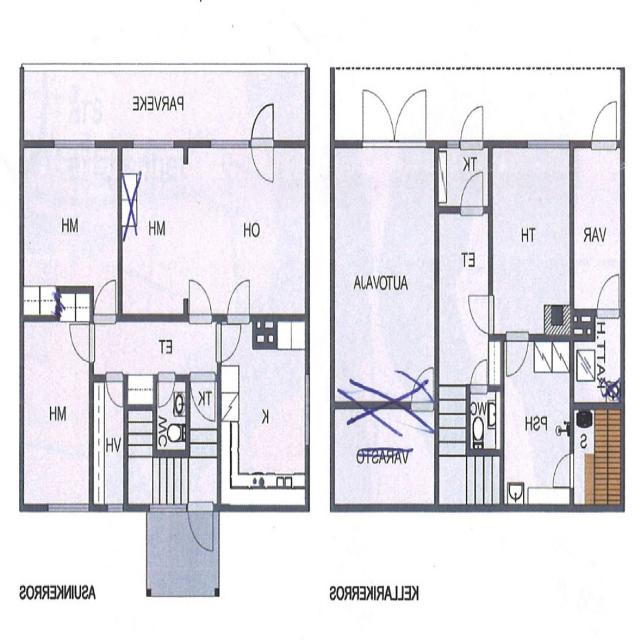door: (362, 84, 394, 148), (394, 84, 426, 148), (592, 97, 617, 148), (189, 504, 213, 554), (191, 374, 215, 424), (461, 101, 483, 148), (252, 140, 274, 187), (227, 274, 249, 321), (190, 274, 212, 321), (598, 270, 620, 316), (507, 334, 529, 380), (252, 102, 274, 148), (461, 168, 483, 213), (217, 324, 243, 362), (467, 296, 493, 333), (95, 277, 116, 321), (69, 326, 94, 361), (551, 454, 574, 487), (107, 374, 123, 410), (158, 374, 174, 410), (471, 357, 487, 392)
